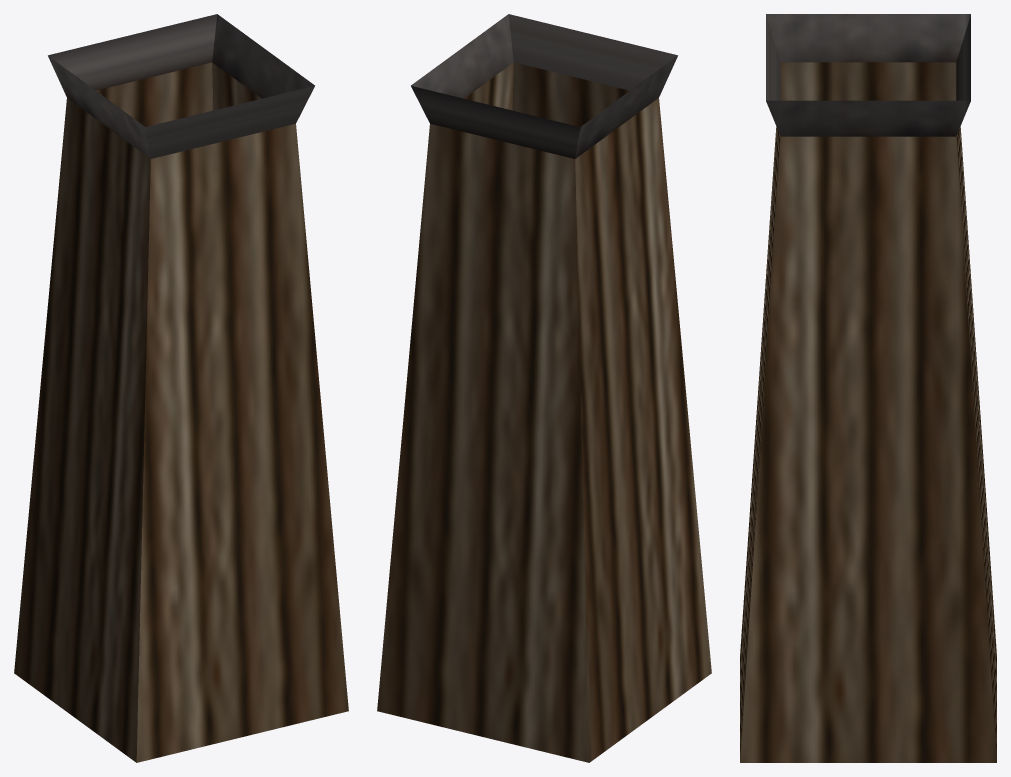
File: lanter.fbx
3 renders of one model, left to right at view 1: azimuth 30°, elevation 25°; view 2: azimuth 150°, elevation 25°; view 3: azimuth 270°, elevation 25°, orthographic. The views are drawn at different scales.
Parts seen in each view (by area): view 1: Cube; view 2: Cube; view 3: Cube.
Boxes of the visible parts, box(x1,y1,x2,y2) form: Cube: box(14, 14, 348, 762); Cube: box(377, 14, 711, 762); Cube: box(740, 14, 996, 762).
Bounding box in the file's own units: 302 × 845 × 302.
